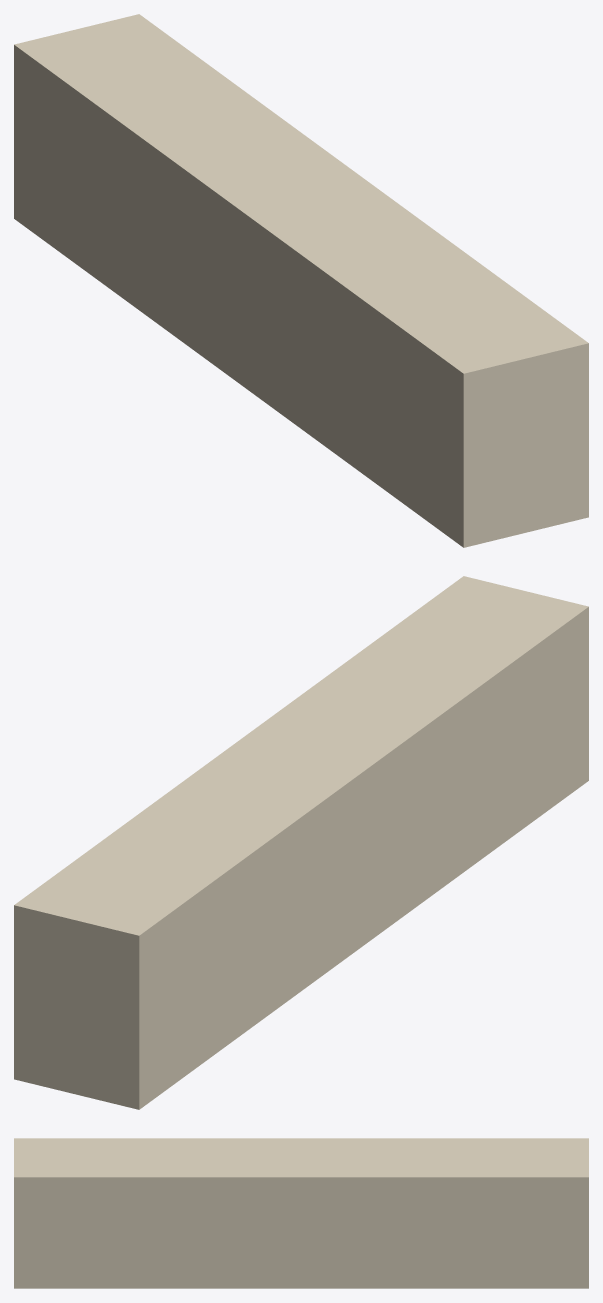
3 views of the same model, one above another, from view 1: azimuth 30°, elevation 25°; view 2: azimuth 150°, elevation 25°; view 3: azimuth 270°, elevation 25° (orthographic). The views are drawn at different scales.
Visible parts, largest first — view 1: A-GF-WINDOW-007-HEAD; view 2: A-GF-WINDOW-007-HEAD; view 3: A-GF-WINDOW-007-HEAD.
Boxes of the visible parts, x1=… form: A-GF-WINDOW-007-HEAD: x1=14, y1=14, x2=588, y2=547; A-GF-WINDOW-007-HEAD: x1=14, y1=576, x2=588, y2=1109; A-GF-WINDOW-007-HEAD: x1=14, y1=1138, x2=588, y2=1288.
Bounding box in the file's own units: 0.3538 × 0.47 × 2.2.
